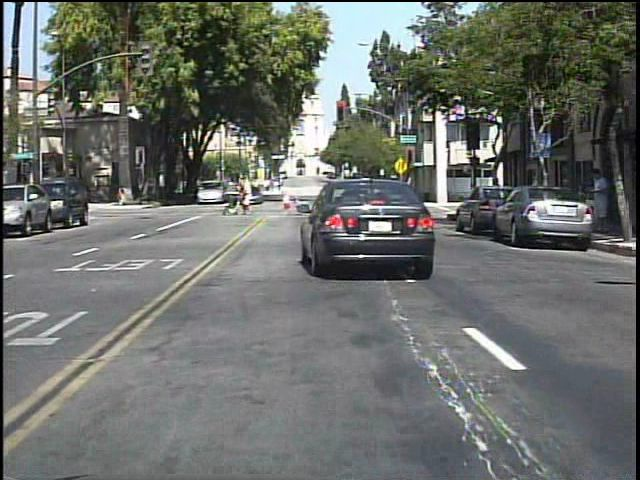person: (591, 162, 612, 237), (240, 175, 261, 216), (119, 183, 133, 209), (149, 178, 150, 207)
